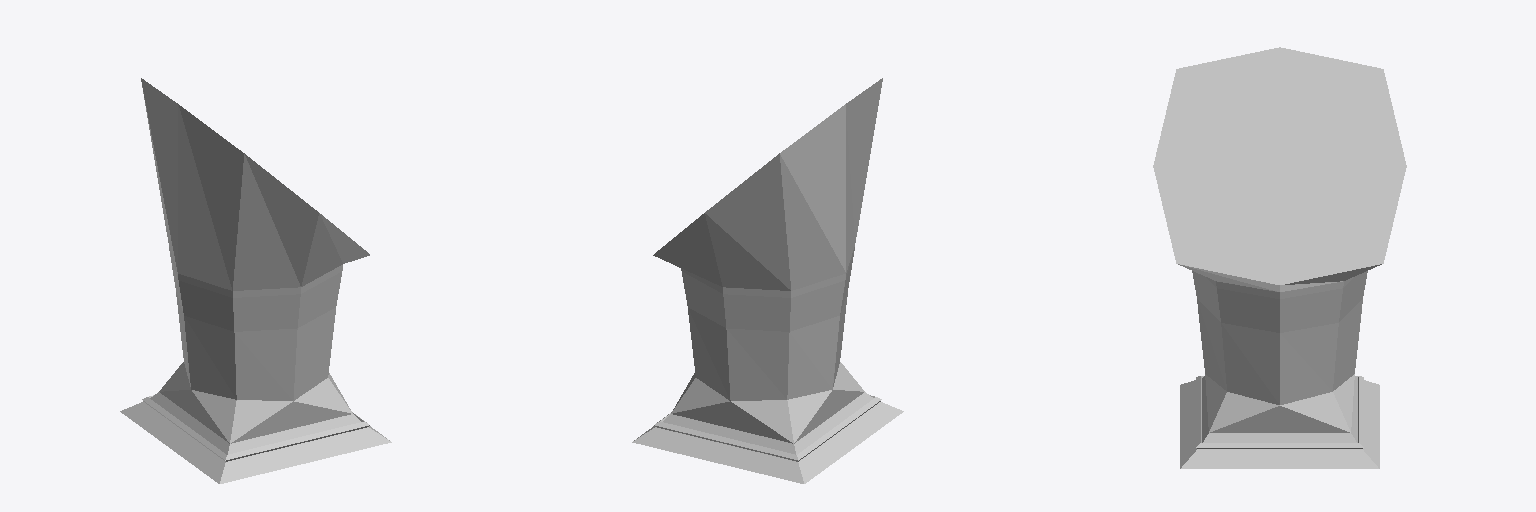
Rendered from StonePanelHolder.obj.
3 views of the same model, side by side, from view 1: azimuth 30°, elevation 25°; view 2: azimuth 150°, elevation 25°; view 3: azimuth 270°, elevation 25° (orthographic).
Parts seen in each view (by area): view 1: Cube; view 2: Cube; view 3: Cube.
Part boxes in pixels (x1,y1,x2,y2): Cube: (120, 78, 391, 483); Cube: (632, 78, 903, 483); Cube: (1153, 47, 1406, 468).
Size of the model in its own units: 1.03 by 1.95 by 1.31.